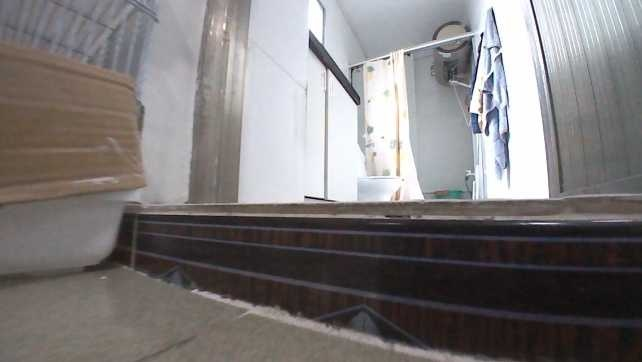door_anno_part: (521, 0, 640, 196)
door_sill: (126, 192, 639, 360)
toilet: (355, 144, 403, 200)
